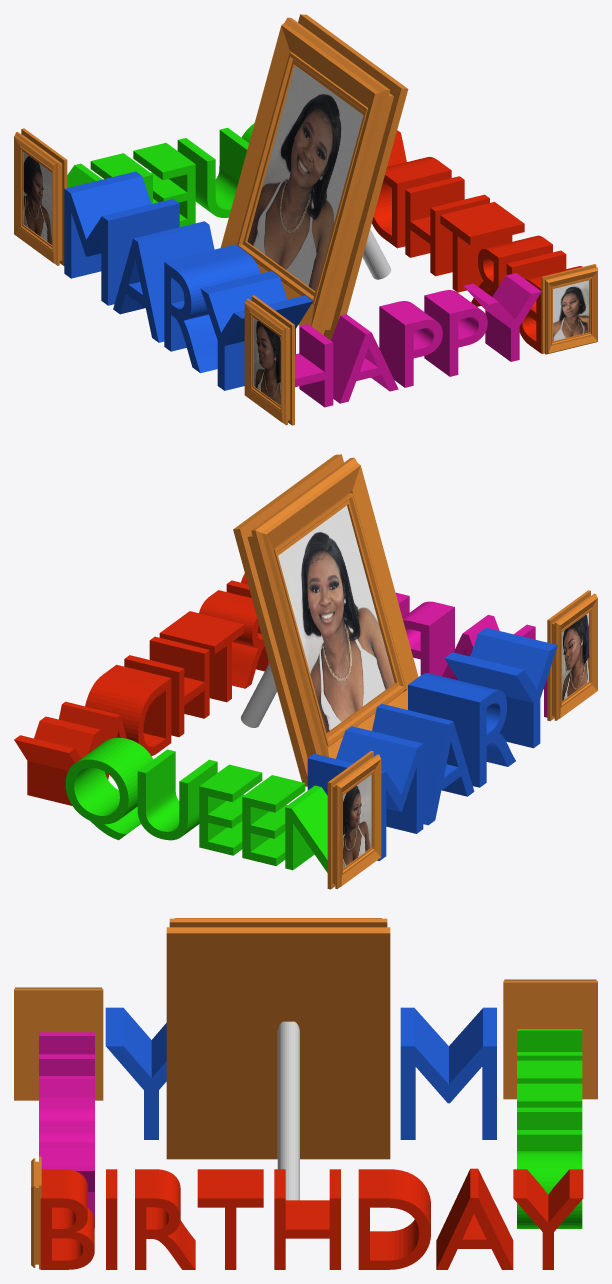
The model's file is hbdsis.glb.
3 views of the same model, one above another, from view 1: azimuth 30°, elevation 25°; view 2: azimuth 150°, elevation 25°; view 3: azimuth 270°, elevation 25° (orthographic). The views are drawn at different scales.
Visible parts, largest first — view 1: Text.003, Cube, Text, Text.001, IMG_20201231_184513_234, Text.002, Cube.003, Cube.002, Cube.001, IMG_20201231_184508_023, IMG_20201231_184518_139, IMG_20201231_184523_240 (+1 smaller); view 2: Text.003, Text.001, Text.002, Cube, IMG_20201231_184513_234, Text, Cube.003, Cube.002, IMG_20201231_184508_023, IMG_20201231_184523_240, Cylinder; view 3: Cube, Text.001, Text.003, Text.002, Text, Cube.003, Cube.002, Cylinder, Cube.001.
Part boxes in pixels (x1,y1,x2,y2): Text.003: [64, 171, 312, 390]; Cube: [220, 14, 408, 340]; Text: [295, 273, 541, 407]; Text.001: [372, 130, 582, 353]; IMG_20201231_184513_234: [247, 65, 363, 291]; Text.002: [67, 123, 254, 226]; Cube.003: [14, 128, 67, 265]; Cube.002: [244, 295, 294, 425]; Cube.001: [541, 264, 597, 354]; IMG_20201231_184508_023: [23, 152, 52, 244]; IMG_20201231_184518_139: [553, 280, 589, 340]; IMG_20201231_184523_240: [253, 318, 280, 405]; Text.003: [307, 627, 557, 860]; Text.001: [14, 573, 269, 805]; Text.002: [65, 737, 327, 872]; Cube: [233, 454, 418, 786]; IMG_20201231_184513_234: [278, 505, 394, 732]; Text: [395, 592, 547, 717]; Cube.003: [327, 751, 381, 889]; Cube.002: [547, 590, 597, 721]; IMG_20201231_184508_023: [343, 775, 371, 867]; IMG_20201231_184523_240: [561, 613, 588, 700]; Cylinder: [241, 663, 277, 727]; Cube: [166, 918, 390, 1159]; Text.001: [40, 1168, 583, 1269]; Text.003: [105, 1007, 496, 1139]; Text.002: [517, 1029, 582, 1228]; Text: [39, 1032, 94, 1227]; Cube.003: [503, 979, 597, 1099]; Cube.002: [14, 987, 103, 1100]; Cylinder: [277, 1021, 299, 1200]; Cube.001: [31, 1156, 41, 1269].
Bounding box in the file's own units: 8.59 × 6.33 × 11.92.
Materials: 9 (4 with a texture image).
